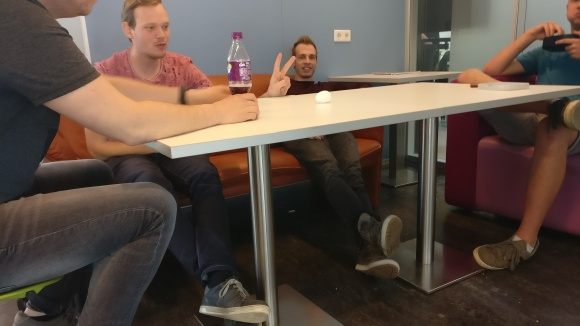egg: (315, 90, 332, 104)
